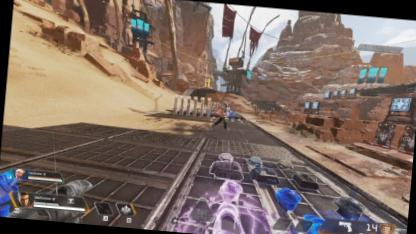Target: (210, 100, 230, 130)
